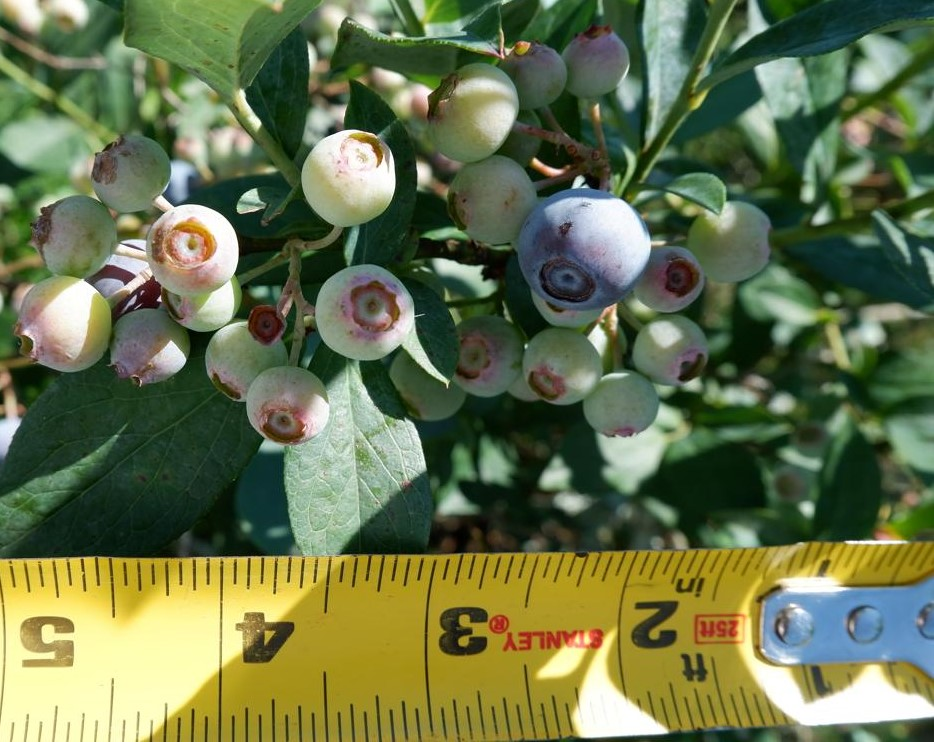Immature: (12, 276, 113, 373), (317, 264, 415, 361), (426, 64, 519, 163), (302, 130, 396, 227), (146, 205, 240, 297), (447, 155, 537, 244), (31, 196, 118, 279), (84, 239, 161, 331), (686, 201, 772, 283), (204, 322, 289, 403), (106, 310, 192, 389), (521, 327, 605, 405), (247, 367, 330, 445), (92, 134, 172, 214), (451, 315, 526, 397), (633, 315, 710, 387), (390, 348, 464, 422), (583, 371, 660, 439), (562, 23, 631, 98), (496, 41, 567, 111), (633, 247, 705, 313), (161, 274, 243, 331), (572, 310, 628, 375), (489, 110, 542, 171), (531, 288, 606, 329), (507, 369, 541, 400)
Mature: (516, 189, 651, 311)
